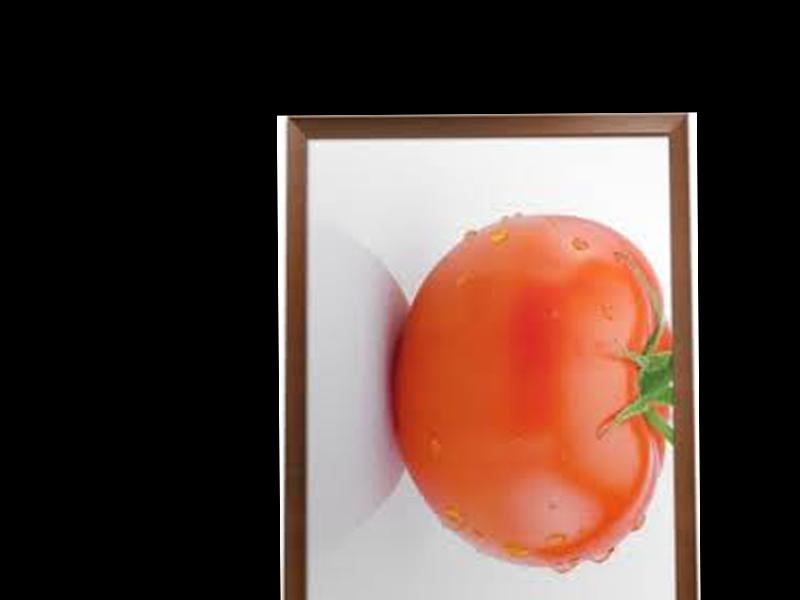Tomato: (391, 214, 676, 568)
